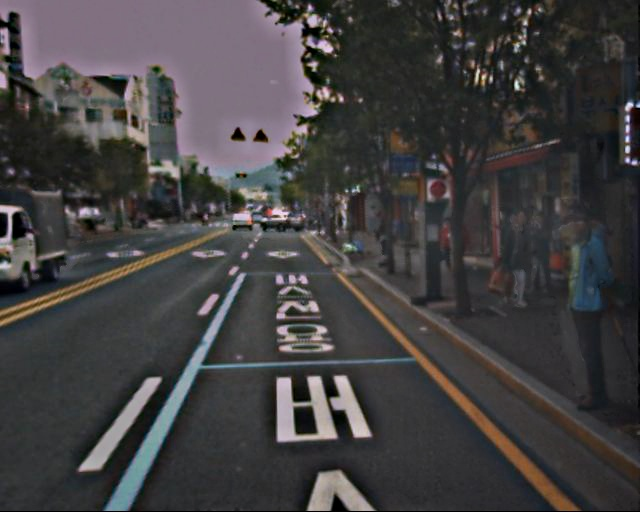person: (533, 206, 623, 404), (497, 209, 541, 309), (521, 211, 558, 293), (438, 218, 456, 269), (377, 219, 393, 258)
